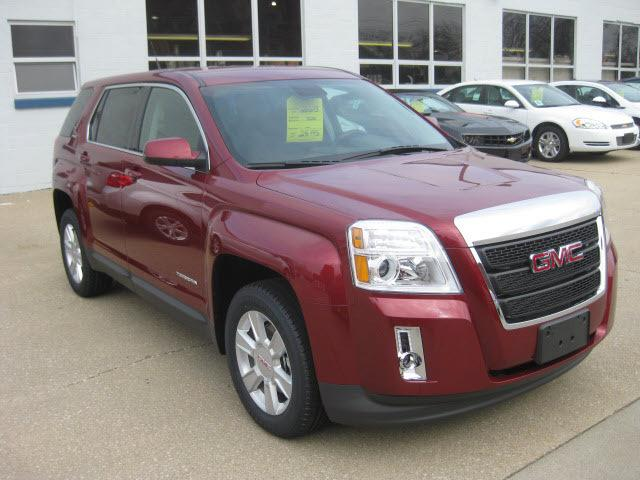GMC: (516, 238, 600, 279)
